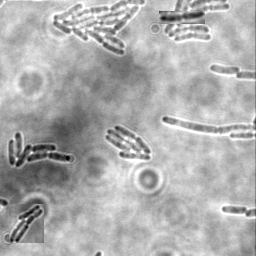Dividing: (161, 114, 255, 133), (159, 11, 205, 24), (221, 204, 248, 215)
Microcolony: (51, 1, 147, 56), (162, 1, 231, 44), (8, 130, 72, 167), (106, 124, 153, 160), (9, 204, 44, 243), (208, 63, 240, 74)
